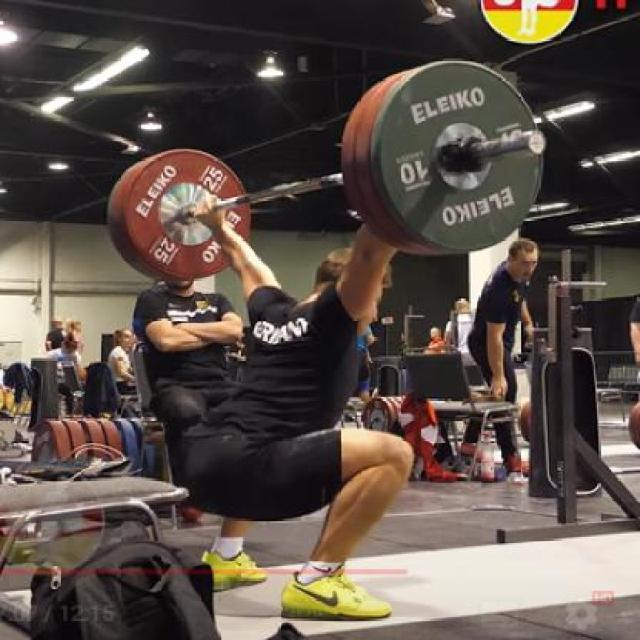barbell: (335, 49, 553, 262)
